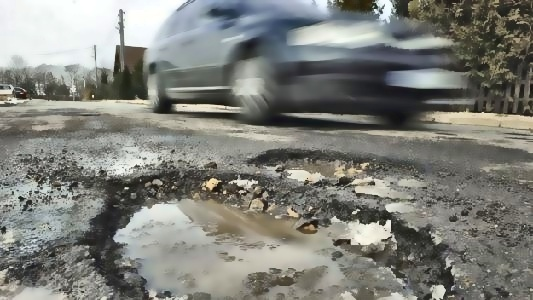pothole: (81, 163, 464, 299), (247, 146, 421, 187)
